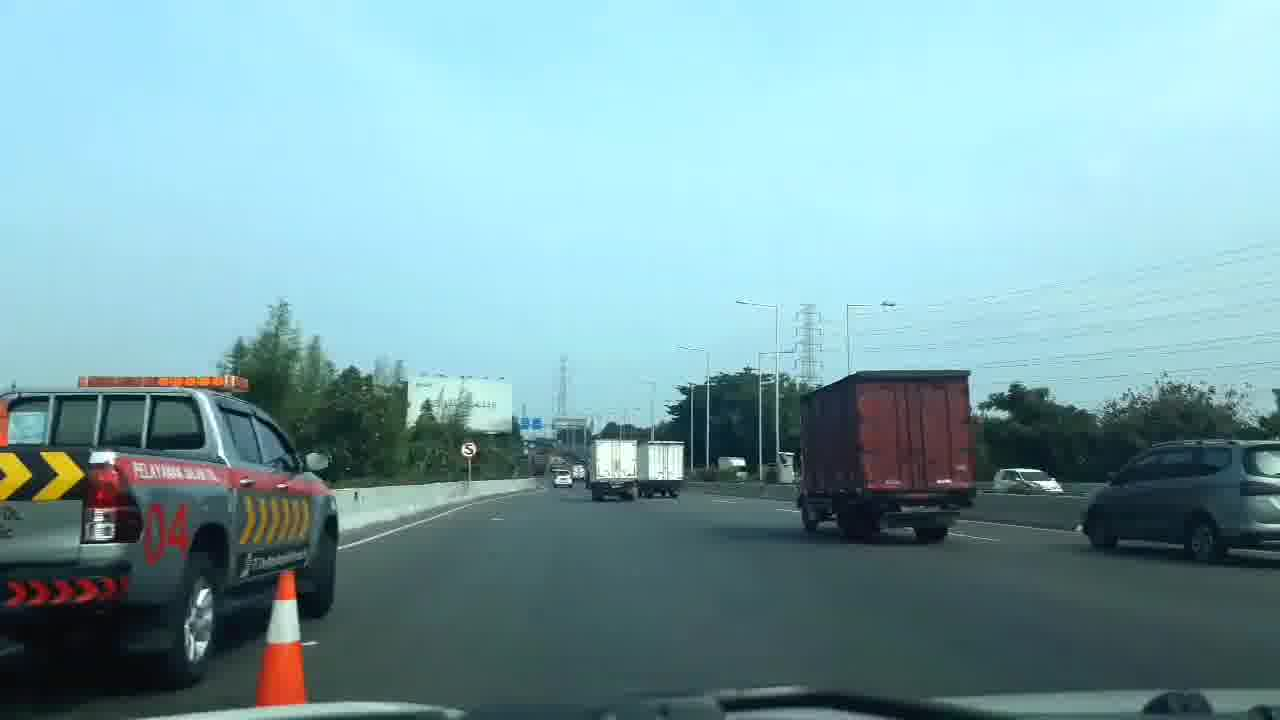plate_positive: (897, 502, 940, 512)
